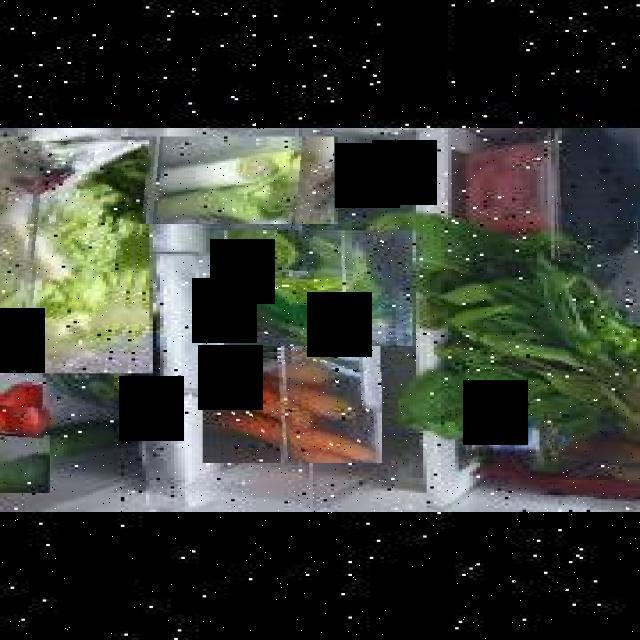carrot: (205, 346, 382, 463)
cucumber: (553, 129, 638, 261)
leek: (121, 137, 334, 224)
salad: (0, 140, 149, 373), (0, 143, 121, 369)
spinach: (224, 230, 412, 346)
tomato: (0, 435, 50, 493), (0, 394, 46, 440), (0, 382, 39, 433), (0, 450, 43, 491), (0, 405, 39, 448)
yogurt: (467, 418, 553, 463)
